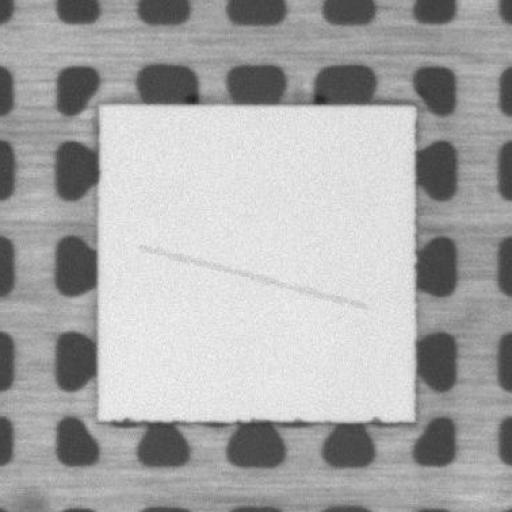DIE_CRACK: (139, 247, 365, 306)
